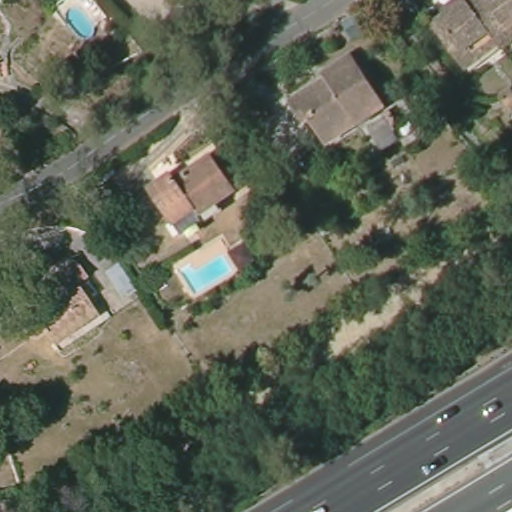pool: (180, 255, 235, 294), (62, 3, 101, 43)
